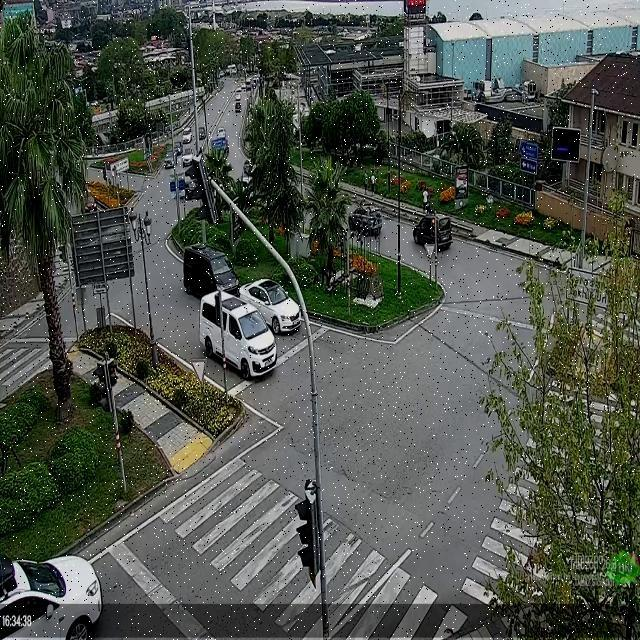Car: (0, 556, 105, 628), (239, 277, 301, 333)
Van: (200, 292, 274, 377), (181, 243, 236, 296), (413, 214, 452, 249)
